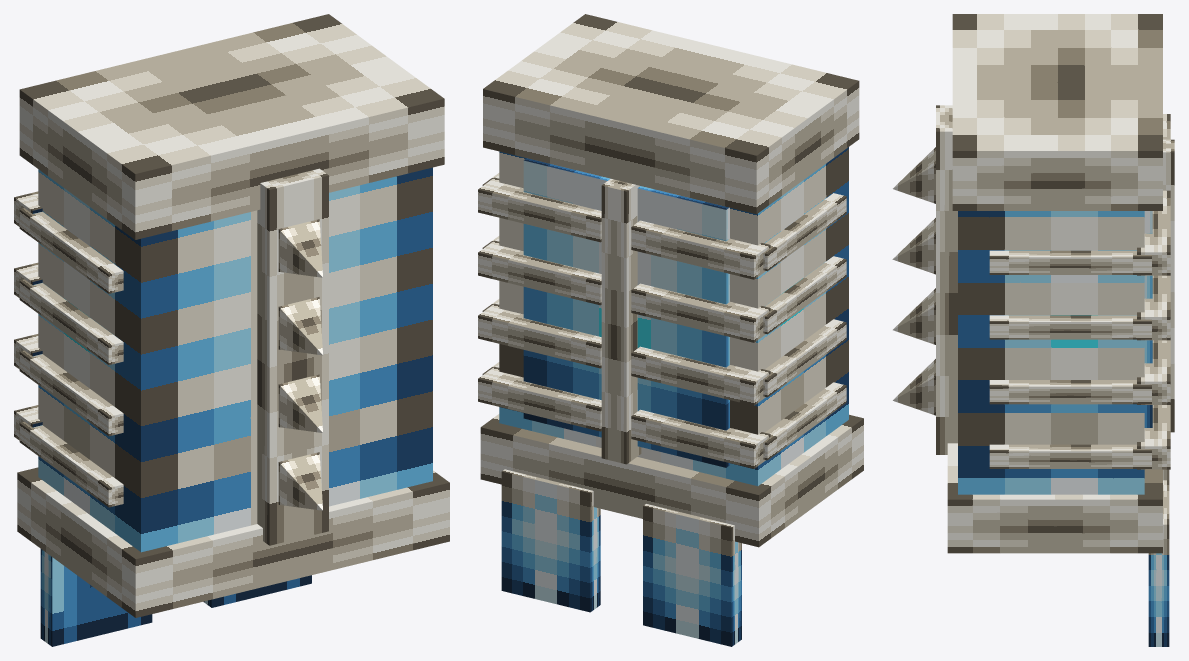
File: x_mobs_chestplate_glacial_frostborne.glb
3 views of the same model, side by side, from view 1: azimuth 30°, elevation 25°; view 2: azimuth 150°, elevation 25°; view 3: azimuth 270°, elevation 25° (orthographic). The views are drawn at different scales.
Parts seen in each view (by area): view 1: x_mobs_chestplate_glacial_frostborne; view 2: x_mobs_chestplate_glacial_frostborne; view 3: x_mobs_chestplate_glacial_frostborne.
Boxes of the visible parts, x1,y1,x2,y2 form: x_mobs_chestplate_glacial_frostborne: (14, 14, 449, 646); x_mobs_chestplate_glacial_frostborne: (478, 14, 863, 646); x_mobs_chestplate_glacial_frostborne: (892, 14, 1174, 646).
Bounding box in the file's own units: 5.2 × 8.62 × 4.35.
Materials: 1 (1 with a texture image).
